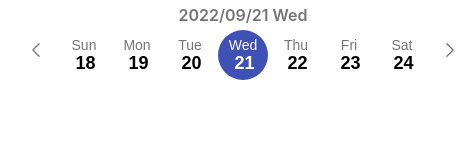
StripeDatePicker › should render StripeDatePicker with go back one week
This screenshot has width=471, height=160.
Click the button named "go-back".
click(36, 50)  # box [16,30,56,70]
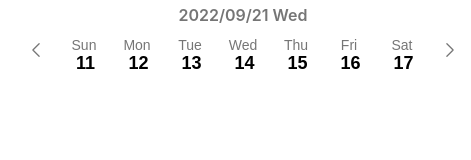
Result: the text "11" is shown at [76,52,95,72]
Result: the text "12" is shown at [128,52,148,72]
Result: the text "13" is shown at [182,52,202,72]
